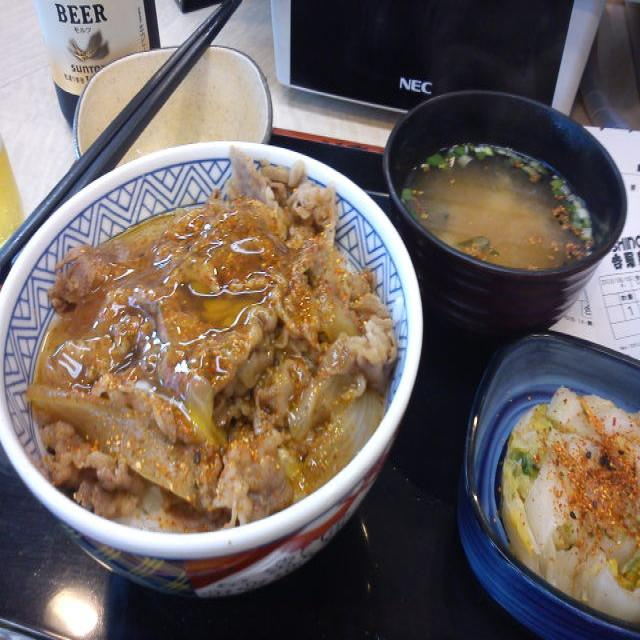汤锅炖物: (384, 45, 629, 318)
